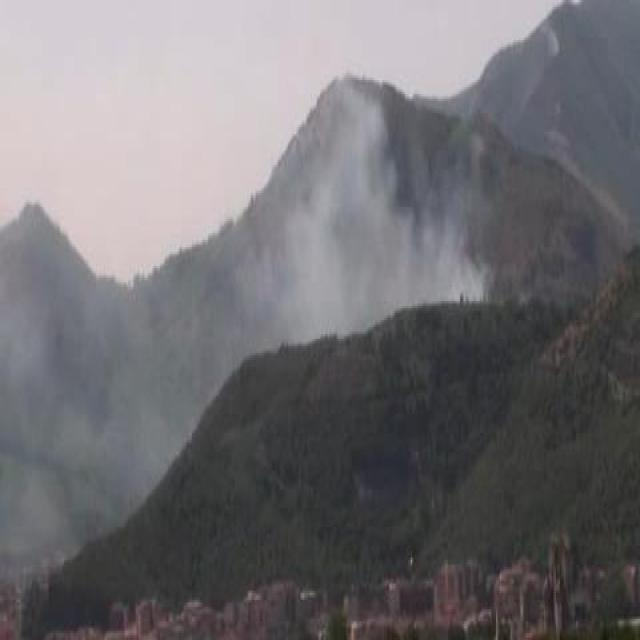Smoke: (285, 94, 479, 313)
